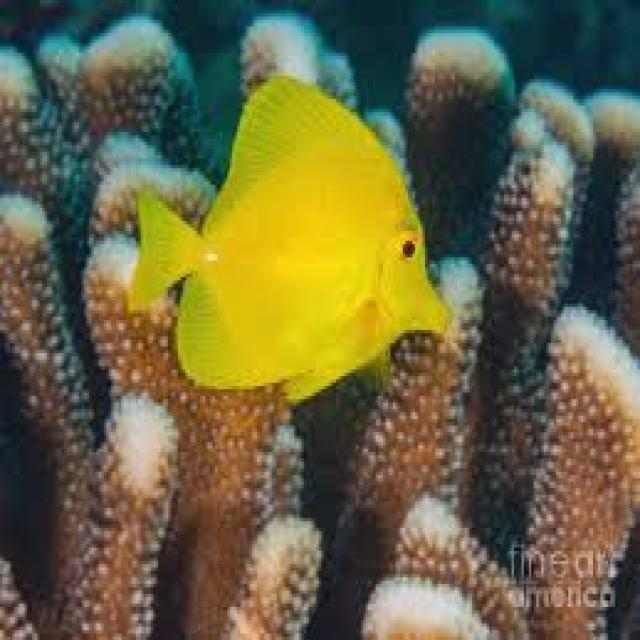YellowTang: (122, 57, 461, 424)
